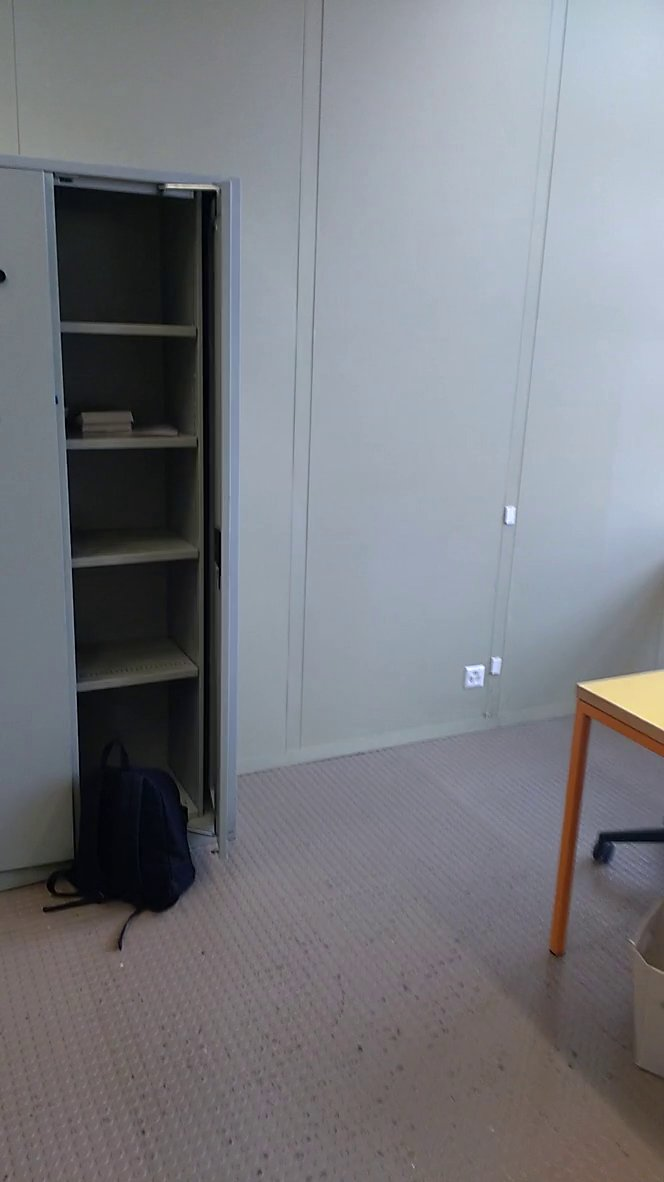bag: (40, 731, 203, 920)
